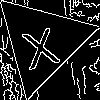X: (17, 17, 61, 70)
